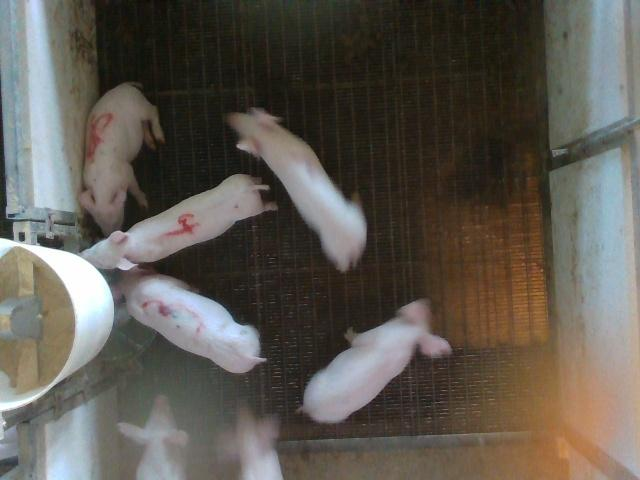pig-2: (226, 108, 366, 271)
pig-3: (112, 268, 265, 372)
pig-4: (80, 175, 275, 269)
pig-5: (79, 82, 165, 236)
